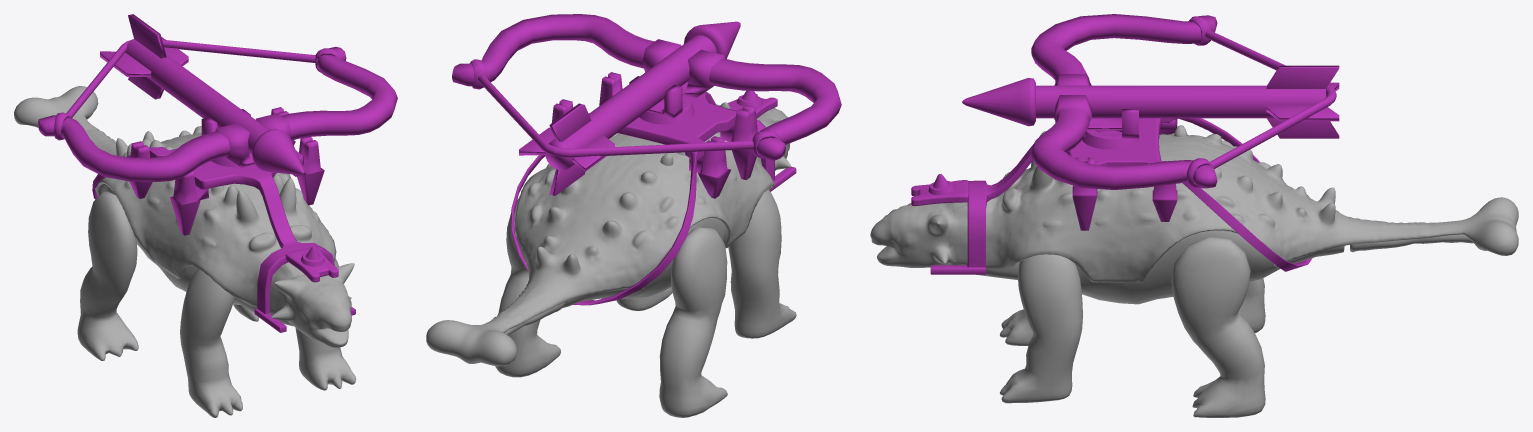
File: SM_Ground_Enemy_WithGun_LP.fbx
3 renders of one model, left to right at view 1: azimuth 30°, elevation 25°; view 2: azimuth 150°, elevation 25°; view 3: azimuth 270°, elevation 25°, orthographic. The views are drawn at different scales.
Parts seen in each view (by area): view 1: Carapace_LP, sweep2, Jambe_AR_Droite_LP, Jambe_AV_Droite_LP, Armure_LP, pCylinder5, Pied_LP, Jambe_AV_Gauche_LP, pCylinder7, pCylinder6, pCube13, pCube10 (+4 smaller); view 2: Carapace_LP, sweep2, Jambe_AR_Droite_LP, Jambe_AV_Droite_LP, Armure_LP, pCylinder5, Pied_LP, Jambe_AR_Gauche_LP, pCylinder7, pCube13, Body_LP, pCylinder6 (+7 smaller); view 3: Carapace_LP, Jambe_AR_Gauche_LP, sweep2, Jambe_AV_Gauche_LP, Armure_LP, pCylinder5, Body_LP, pCylinder6, pCylinder7, pCube13, Pied_LP, pCube10 (+6 smaller).
Boxes of the visible parts, x1,y1,x2,y2 form: Carapace_LP: [14, 86, 354, 347]; sweep2: [38, 47, 397, 181]; Jambe_AR_Droite_LP: [77, 191, 138, 360]; Jambe_AV_Droite_LP: [180, 268, 242, 417]; Armure_LP: [92, 147, 355, 332]; pCylinder5: [125, 39, 269, 153]; Pied_LP: [129, 107, 324, 235]; Jambe_AV_Gauche_LP: [295, 258, 356, 390]; pCylinder7: [66, 39, 315, 117]; pCylinder6: [252, 129, 304, 174]; pCube13: [201, 109, 291, 167]; pCube10: [128, 14, 166, 58]; Carapace_LP: [426, 102, 791, 366]; sweep2: [452, 14, 841, 160]; Jambe_AR_Droite_LP: [659, 227, 727, 417]; Jambe_AV_Droite_LP: [728, 189, 796, 338]; Armure_LP: [511, 91, 796, 305]; pCylinder5: [545, 35, 716, 170]; Pied_LP: [552, 72, 757, 198]; Jambe_AR_Gauche_LP: [495, 199, 560, 377]; pCylinder7: [478, 75, 753, 157]; pCube13: [629, 39, 724, 118]; Body_LP: [562, 219, 724, 308]; pCylinder6: [684, 21, 740, 58]; Carapace_LP: [870, 125, 1518, 283]; Jambe_AR_Gauche_LP: [1171, 236, 1265, 417]; sweep2: [1031, 14, 1217, 189]; Jambe_AV_Gauche_LP: [1000, 254, 1082, 403]; Armure_LP: [911, 118, 1312, 274]; pCylinder5: [1036, 85, 1325, 118]; Body_LP: [950, 231, 1344, 304]; pCylinder6: [962, 78, 1035, 126]; pCylinder7: [1205, 30, 1336, 168]; pCube13: [1054, 74, 1138, 138]; Pied_LP: [1072, 119, 1177, 230]; pCube10: [1266, 65, 1339, 88].
Size of the model in its own units: 255 by 221 by 430.
